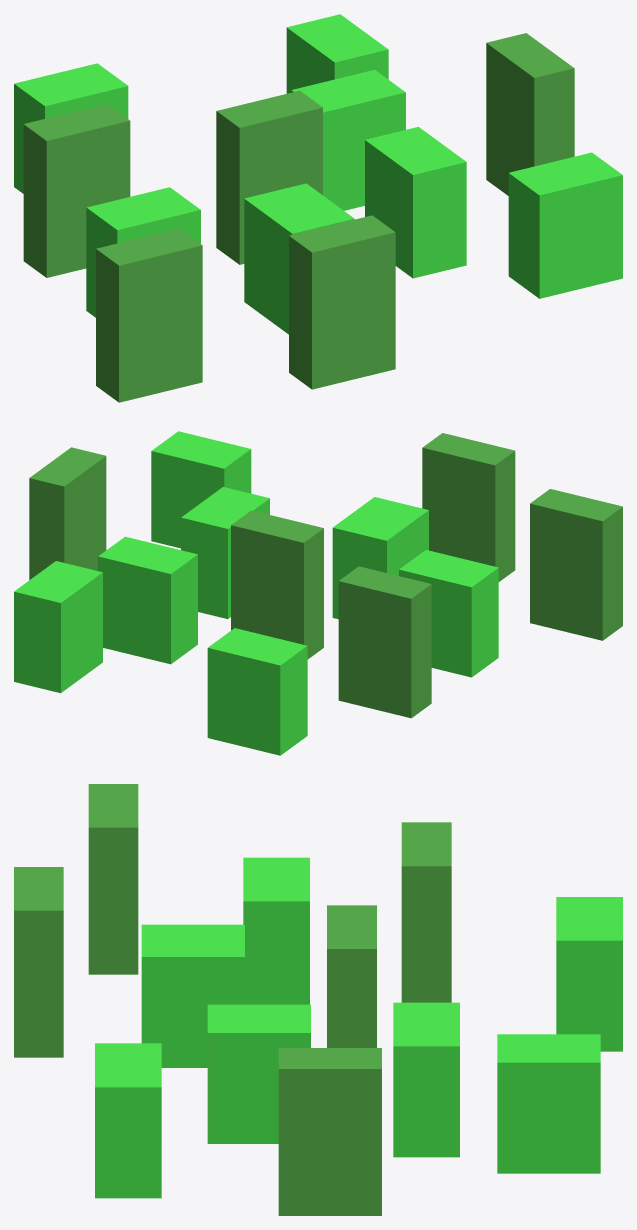
Rendered from GrassLitle.fbx.
3 renders of one model, top to bottom at view 1: azimuth 30°, elevation 25°; view 2: azimuth 150°, elevation 25°; view 3: azimuth 270°, elevation 25°, orthographic. The views are drawn at different scales.
Parts seen in each view (by area): view 1: Cube.005, Cube.003, Cube.006, Cube, Cube.008, Cube.010, Cube.011, Cube.001, Cube.002, Cube.007, Cube.004, Cube.009; view 2: Cube, Cube.003, Cube.010, Cube.009, Cube.005, Cube.001, Cube.007, Cube.011, Cube.004, Cube.006, Cube.002, Cube.008; view 3: Cube.011, Cube.007, Cube.002, Cube.008, Cube.001, Cube.006, Cube.004, Cube.003, Cube.009, Cube.005, Cube, Cube.010.
Part boxes in pixels (bbox=[...]): Cube.005: bbox=[289, 215, 395, 389]; Cube.003: bbox=[96, 228, 202, 402]; Cube.006: bbox=[508, 152, 622, 298]; Cube: bbox=[23, 104, 130, 277]; Cube.008: bbox=[365, 127, 466, 278]; Cube.010: bbox=[216, 90, 322, 264]; Cube.011: bbox=[486, 33, 574, 195]; Cube.001: bbox=[291, 69, 405, 210]; Cube.002: bbox=[244, 183, 354, 334]; Cube.007: bbox=[286, 14, 388, 93]; Cube.004: bbox=[86, 187, 200, 317]; Cube.009: bbox=[14, 63, 128, 193]; Cube: bbox=[338, 566, 431, 718]; Cube.003: bbox=[530, 489, 622, 640]; Cube.010: bbox=[231, 510, 323, 659]; Cube.009: bbox=[207, 628, 307, 755]; Cube.005: bbox=[422, 433, 515, 581]; Cube.001: bbox=[98, 536, 197, 664]; Cube.007: bbox=[14, 561, 102, 693]; Cube.011: bbox=[29, 447, 106, 579]; Cube.004: bbox=[399, 550, 498, 677]; Cube.006: bbox=[151, 431, 251, 548]; Cube.002: bbox=[332, 497, 428, 619]; Cube.008: bbox=[181, 487, 269, 618]; Cube.011: bbox=[278, 1048, 381, 1215]; Cube.007: bbox=[497, 1034, 600, 1173]; Cube.002: bbox=[141, 924, 244, 1067]; Cube.008: bbox=[207, 1004, 310, 1143]; Cube.001: bbox=[393, 1002, 459, 1157]; Cube.006: bbox=[95, 1043, 161, 1198]; Cube.004: bbox=[243, 857, 309, 1004]; Cube.003: bbox=[88, 784, 138, 974]; Cube.009: bbox=[556, 897, 622, 1051]; Cube.005: bbox=[14, 867, 63, 1057]; Cube: bbox=[401, 822, 451, 1002]; Cube.010: bbox=[327, 905, 376, 1047].
Bounding box in the file's own units: 21.33 × 5.19 × 19.27.
